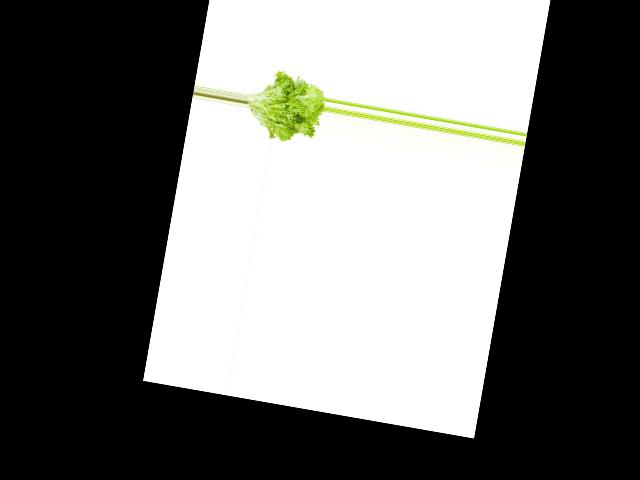lettuce: (239, 65, 329, 150)
